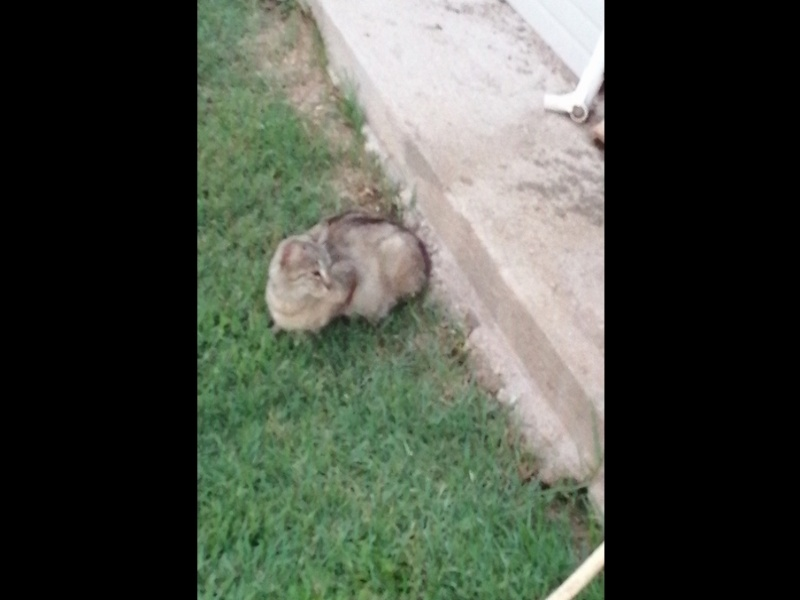cat: (261, 206, 432, 343)
